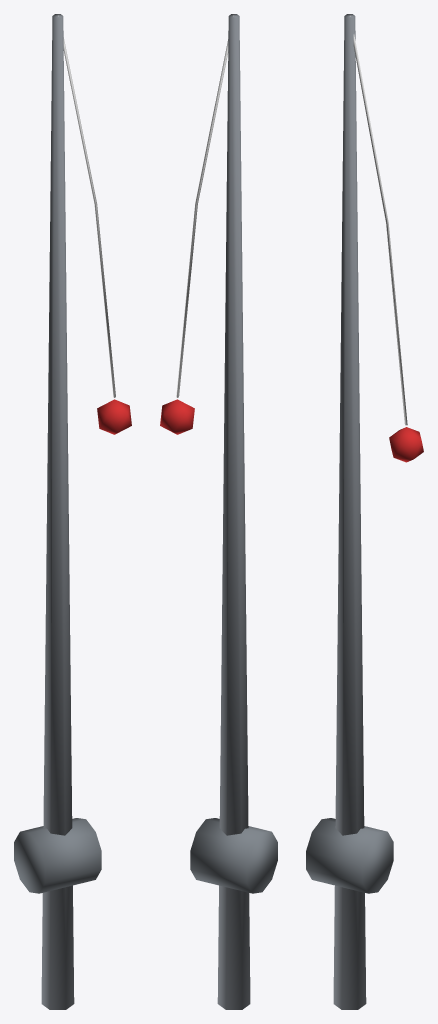
File: reinforced_fishing_pole.glb
The picture shows the model from 3 angles, left to right: view 1: azimuth 30°, elevation 25°; view 2: azimuth 150°, elevation 25°; view 3: azimuth 330°, elevation 25°; orthographic projection.
Visible parts, largest first — view 1: reinforced_fishing_pole_v0; view 2: reinforced_fishing_pole_v0; view 3: reinforced_fishing_pole_v0.
Boxes of the visible parts, x1,y1,x2,y2 form: reinforced_fishing_pole_v0: (14, 14, 131, 1009); reinforced_fishing_pole_v0: (160, 14, 277, 1009); reinforced_fishing_pole_v0: (306, 14, 423, 1009).
Bounding box in the file's own units: 0.1061 × 1 × 0.0571.
